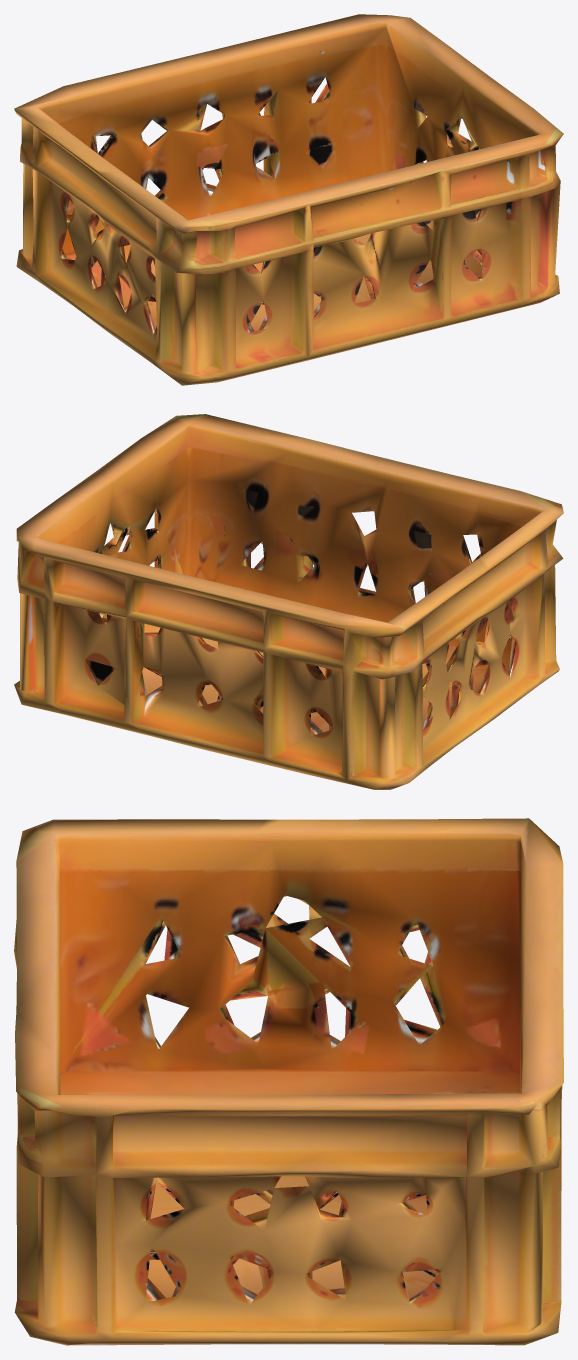
File: Golden_Crate_Glow_0811164037_texture.fbx
The picture shows the model from 3 angles, top to bottom: view 1: azimuth 30°, elevation 25°; view 2: azimuth 150°, elevation 25°; view 3: azimuth 270°, elevation 25°; orthographic projection. The views are drawn at different scales.
Parts seen in each view (by area): view 1: input; view 2: input; view 3: input.
Boxes of the visible parts, x1,y1,x2,y2 form: input: [14, 14, 563, 385]; input: [14, 414, 563, 789]; input: [14, 818, 563, 1345].
Bounding box in the file's own units: 200 × 78.92 × 160.
Materials: 1 (1 with a texture image).
